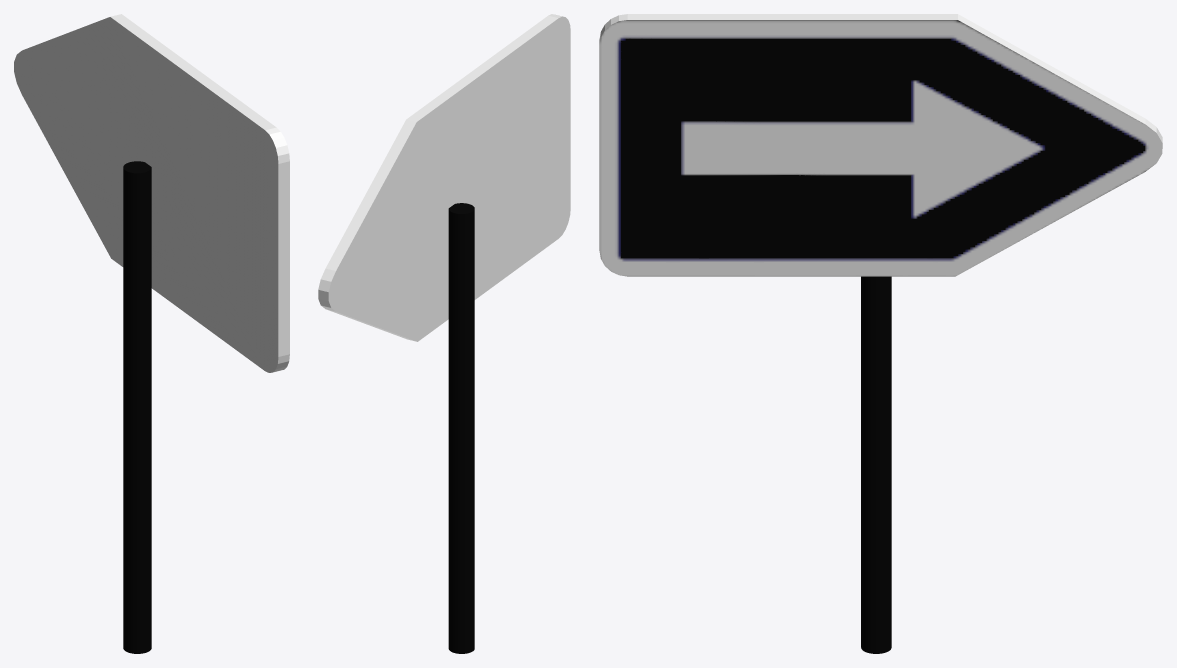
The model's file is Sign_Right_Arrow_Black.fbx.
The picture shows the model from 3 angles, left to right: view 1: azimuth 30°, elevation 25°; view 2: azimuth 150°, elevation 25°; view 3: azimuth 270°, elevation 25°; orthographic projection. The views are drawn at different scales.
Visible parts, largest first — view 1: Cube.001, Pole_Park_Yellow; view 2: Cube.001, Pole_Park_Yellow; view 3: Cube.001, Pole_Park_Yellow.
Part boxes in pixels (x1,y1,x2,y2): Cube.001: (14,14,289,372); Pole_Park_Yellow: (123,161,151,653); Cube.001: (318,14,570,341); Pole_Park_Yellow: (448,203,474,653); Cube.001: (599,14,1162,276); Pole_Park_Yellow: (861,276,891,653).
Size of the model in its own units: 6.76 by 111 by 88.89.
